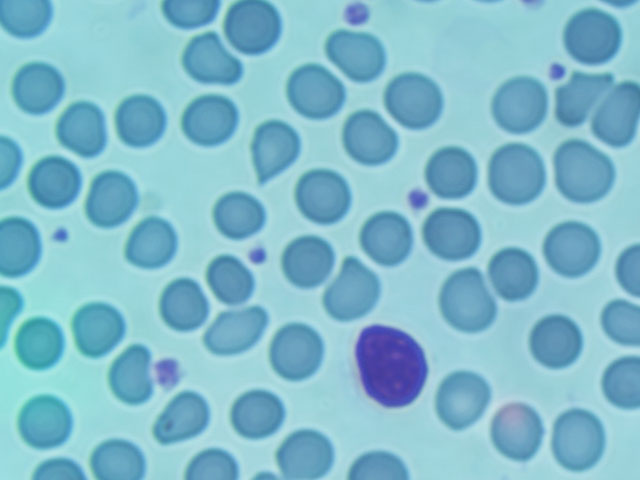Platelets: (148, 352, 182, 392), (238, 236, 271, 272), (40, 219, 75, 252), (337, 1, 374, 31), (401, 182, 436, 209), (538, 55, 570, 83)
RBC: (83, 171, 141, 227), (24, 155, 82, 211), (70, 296, 128, 352), (9, 314, 67, 370), (15, 389, 73, 445), (155, 389, 213, 445), (227, 386, 285, 442), (269, 324, 327, 380), (205, 309, 263, 365), (153, 281, 211, 337), (278, 422, 334, 480), (289, 61, 344, 119), (328, 22, 383, 80), (185, 31, 240, 89), (568, 6, 623, 64), (489, 77, 544, 135), (585, 74, 640, 132), (341, 107, 396, 164), (557, 144, 612, 201), (490, 147, 544, 205), (227, 1, 282, 57), (389, 73, 441, 128), (425, 206, 477, 260), (490, 245, 542, 299), (438, 272, 490, 326), (532, 313, 584, 367), (437, 369, 489, 423), (490, 403, 542, 457), (554, 412, 606, 466), (545, 223, 597, 277), (428, 145, 480, 199), (54, 103, 107, 155), (113, 95, 166, 147), (185, 93, 238, 145), (247, 119, 300, 171), (300, 169, 353, 221), (217, 187, 270, 239), (125, 216, 178, 268), (205, 252, 254, 308), (282, 233, 331, 289), (328, 260, 377, 316), (361, 212, 410, 268), (102, 346, 149, 403), (15, 63, 64, 113), (1, 219, 38, 275)
WBC: (341, 319, 437, 415)
